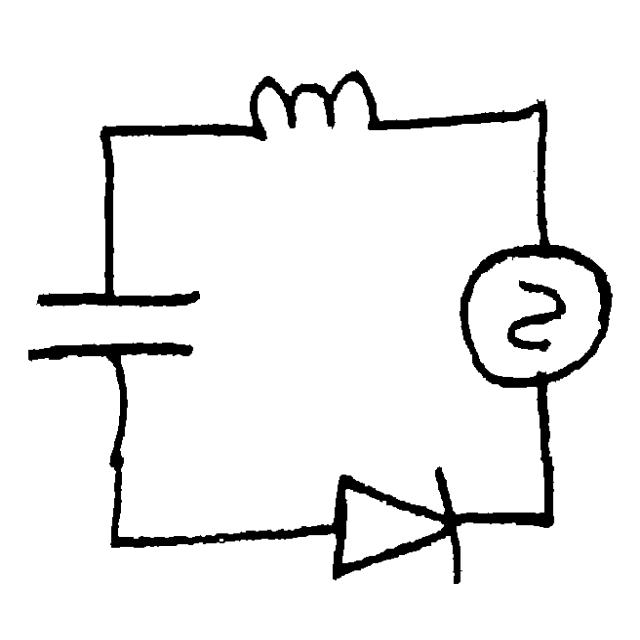ac: (438, 236, 616, 396)
capacitor: (22, 273, 209, 378)
diode: (317, 448, 478, 596)
inductor: (222, 60, 393, 156)
